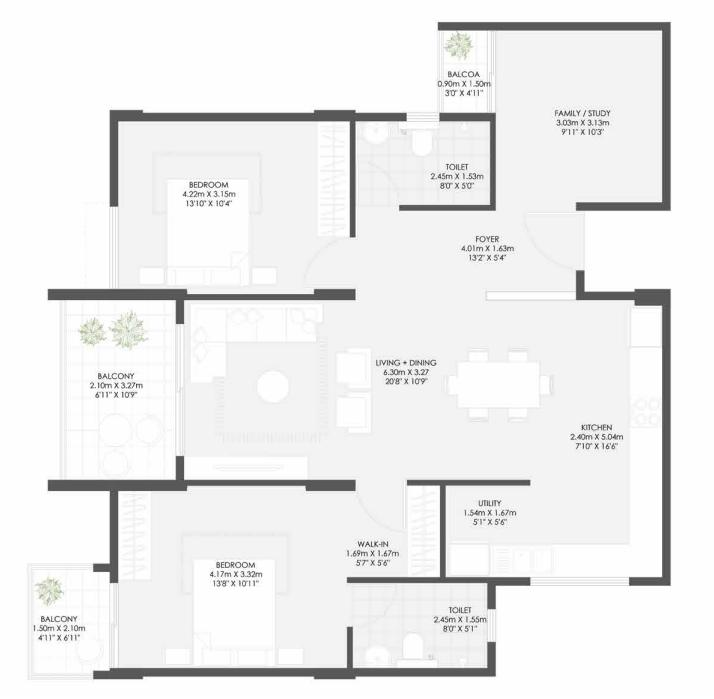Balcony: (57, 300, 181, 486), (32, 568, 117, 673)
Bed: (166, 172, 255, 290), (190, 560, 275, 665)
Bedroom: (116, 489, 350, 675), (114, 119, 352, 298)
Dining Room: (389, 300, 583, 480)
Dining table: (440, 342, 557, 427)
Foyer: (355, 210, 583, 294)
Kitchen: (559, 302, 666, 582)
Living Room: (180, 300, 388, 479)
Sofa: (190, 305, 324, 342), (190, 305, 229, 384), (339, 350, 371, 438), (256, 367, 295, 402)
Wardrobe: (315, 123, 357, 233), (406, 483, 440, 583), (115, 486, 152, 576)
balcoa: (440, 26, 495, 111)
commode: (410, 128, 434, 158), (404, 632, 425, 661)
door: (520, 209, 584, 278), (303, 237, 355, 295), (353, 483, 406, 531), (357, 163, 399, 204)
fridge: (623, 308, 663, 346)
sink: (495, 546, 559, 579), (362, 121, 394, 149), (366, 649, 390, 668)
study: (495, 25, 666, 209)
toilet: (352, 578, 491, 675), (354, 119, 493, 208)
tv: (179, 453, 307, 483)
utility: (445, 488, 540, 578)
walkin: (351, 485, 442, 578)
washing-machine: (448, 543, 491, 575)
